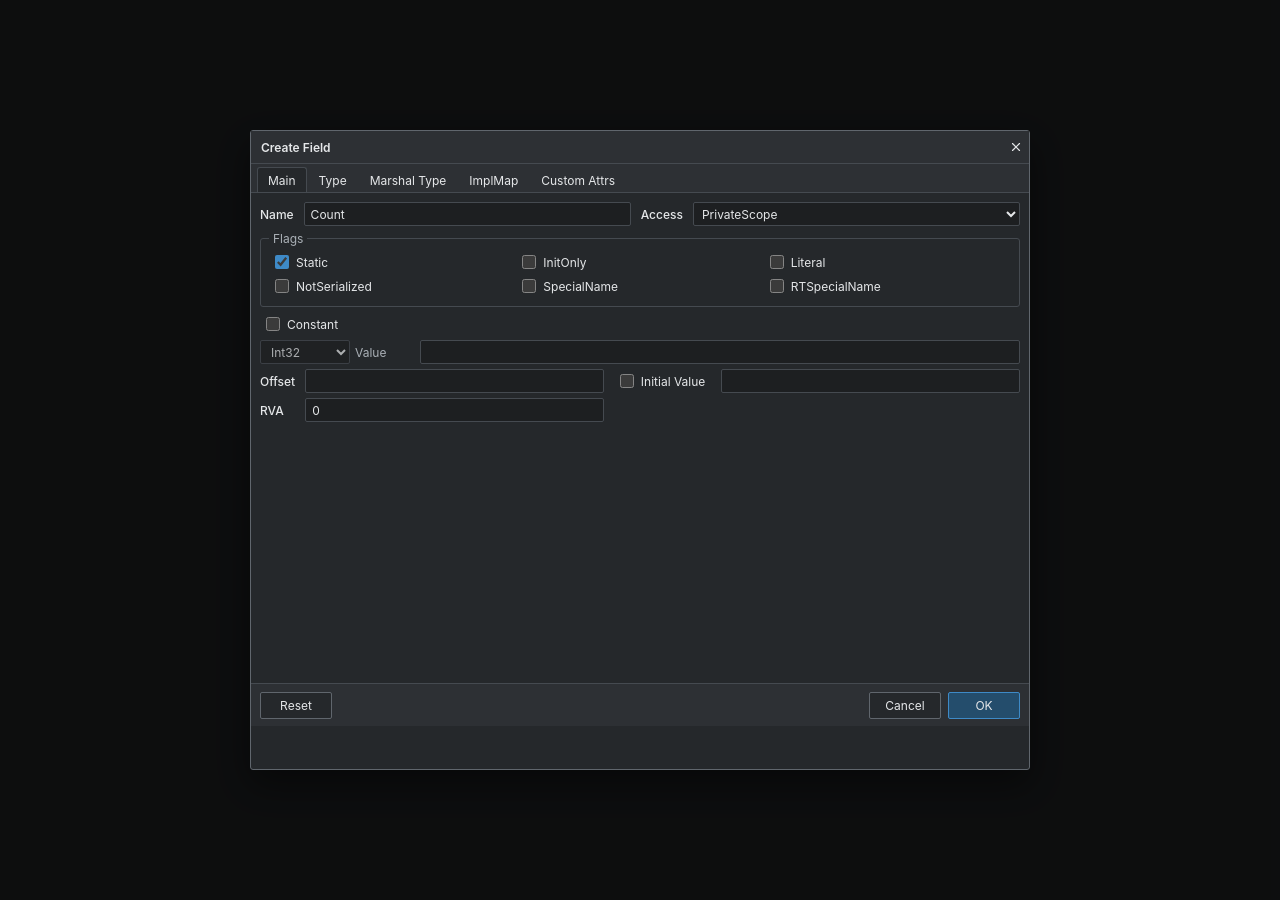
Test: FieldOptionsDialog › puts every page back to what the window opened with
Replace the text in the field named "Name" with "Other": (467, 214) [304,202,631,226]
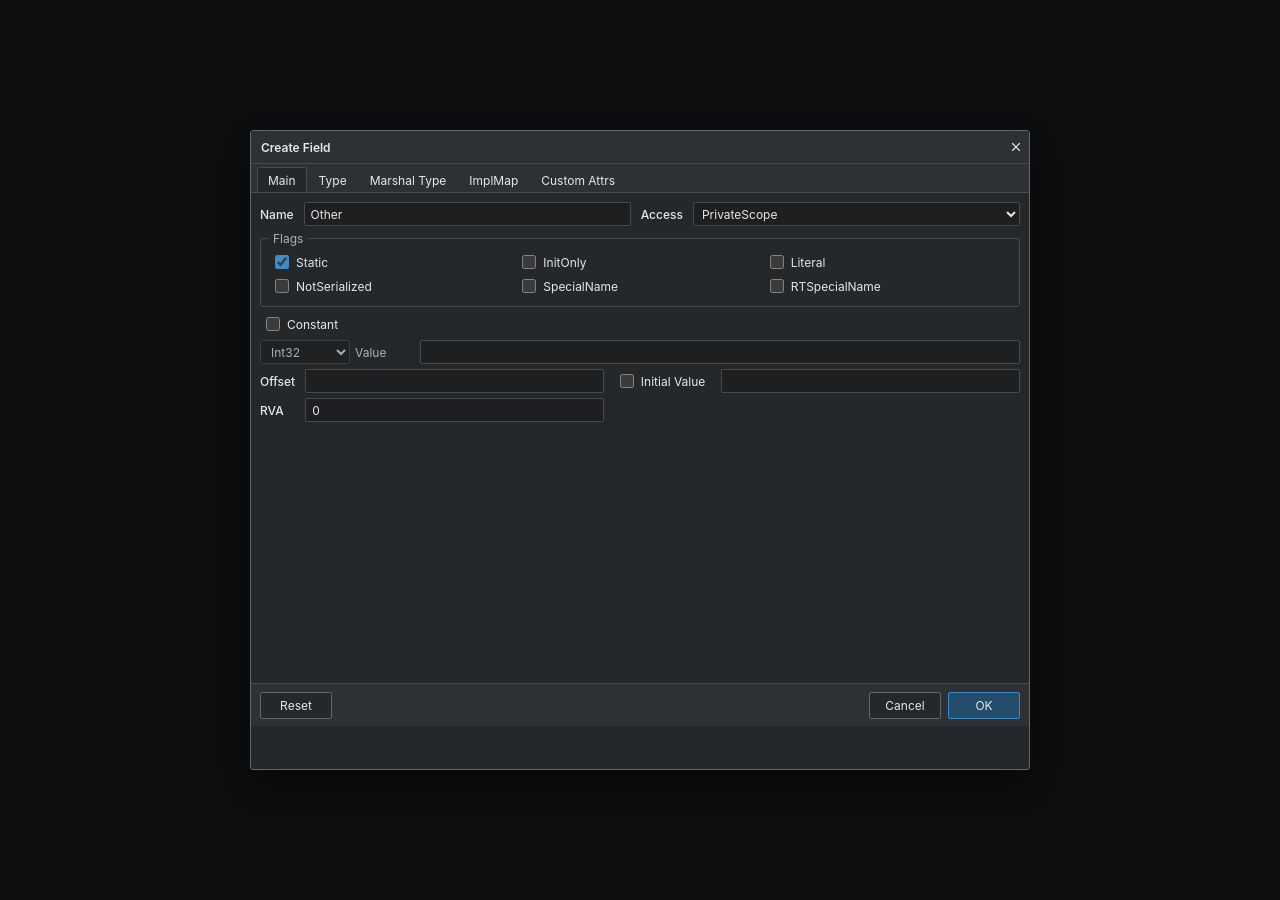
Click the checkbox labelled "Static": click(282, 262) [275,255,289,269]
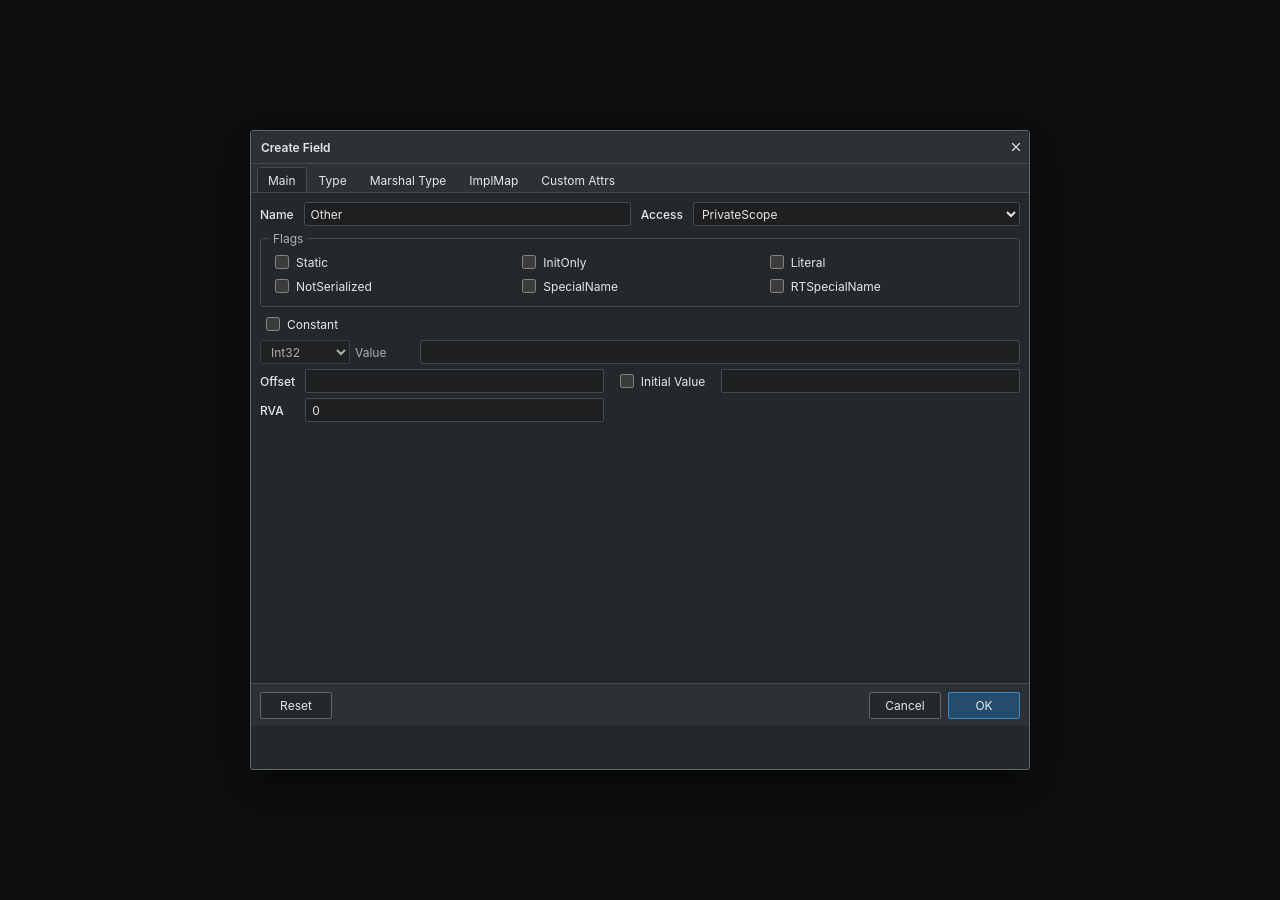
Click the tab "ImplMap": click(494, 180) [458,167,529,192]
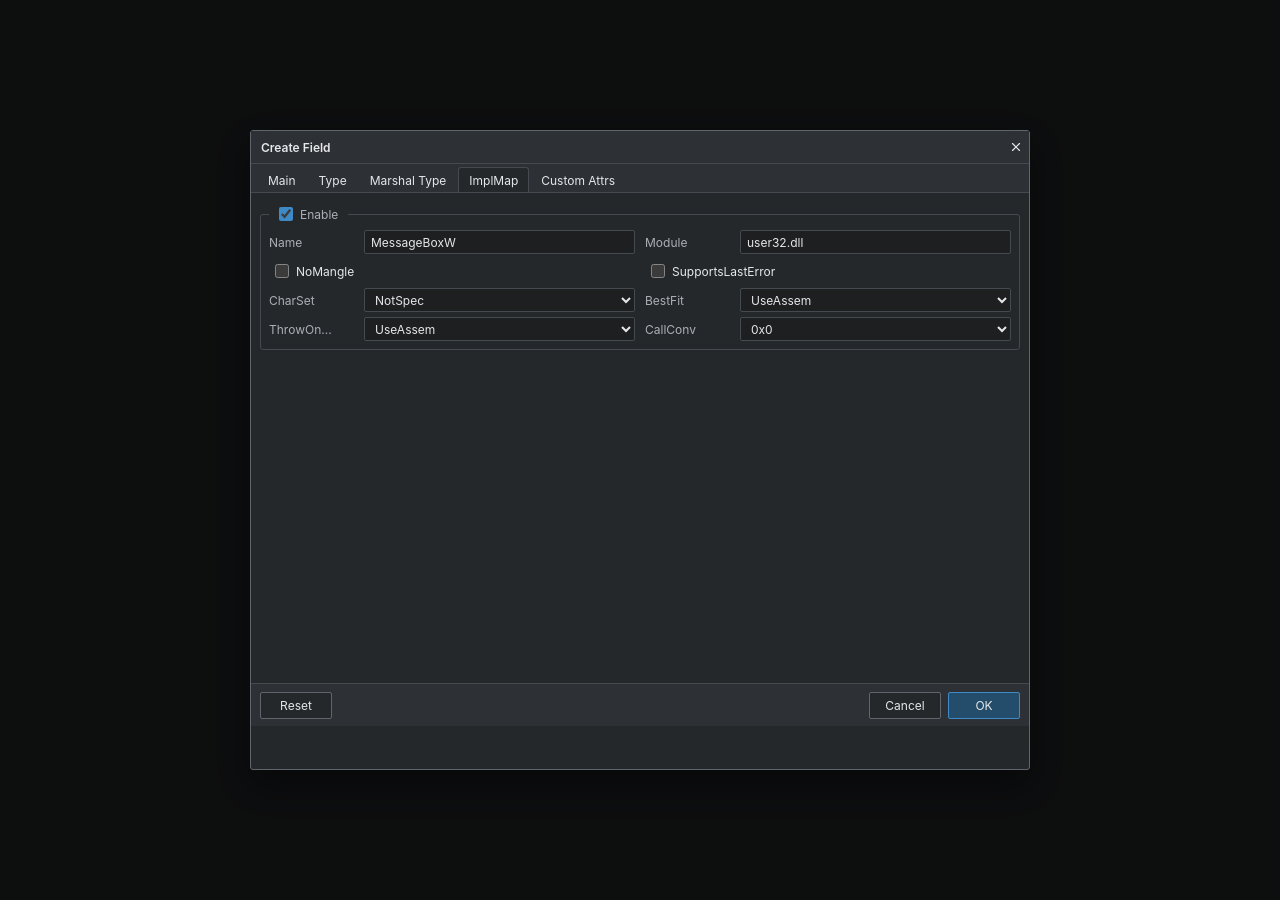
Click the checkbox labelled "Enable": click(286, 214) [279,207,293,221]
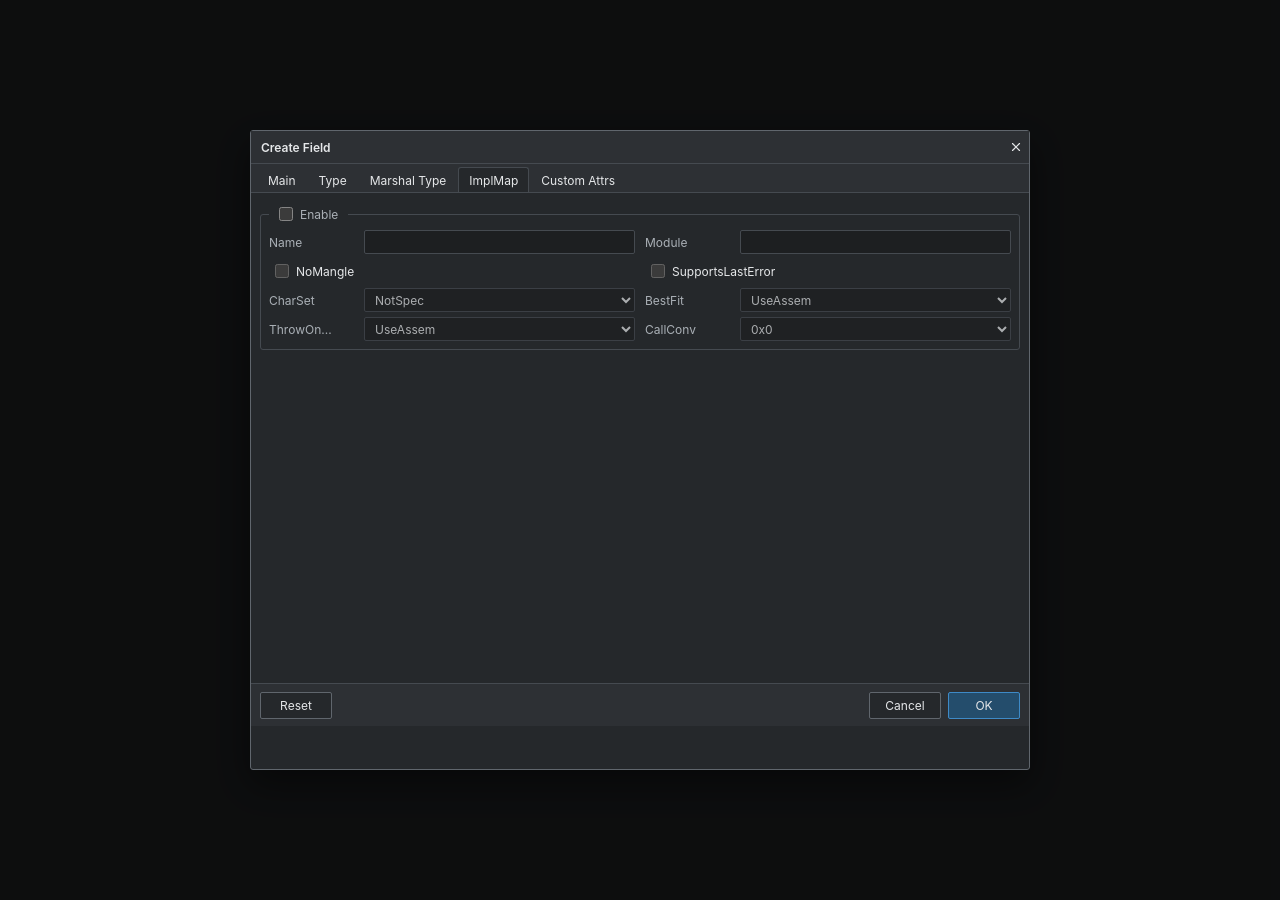
Click the button "Reset": click(296, 705) [260,692,332,718]
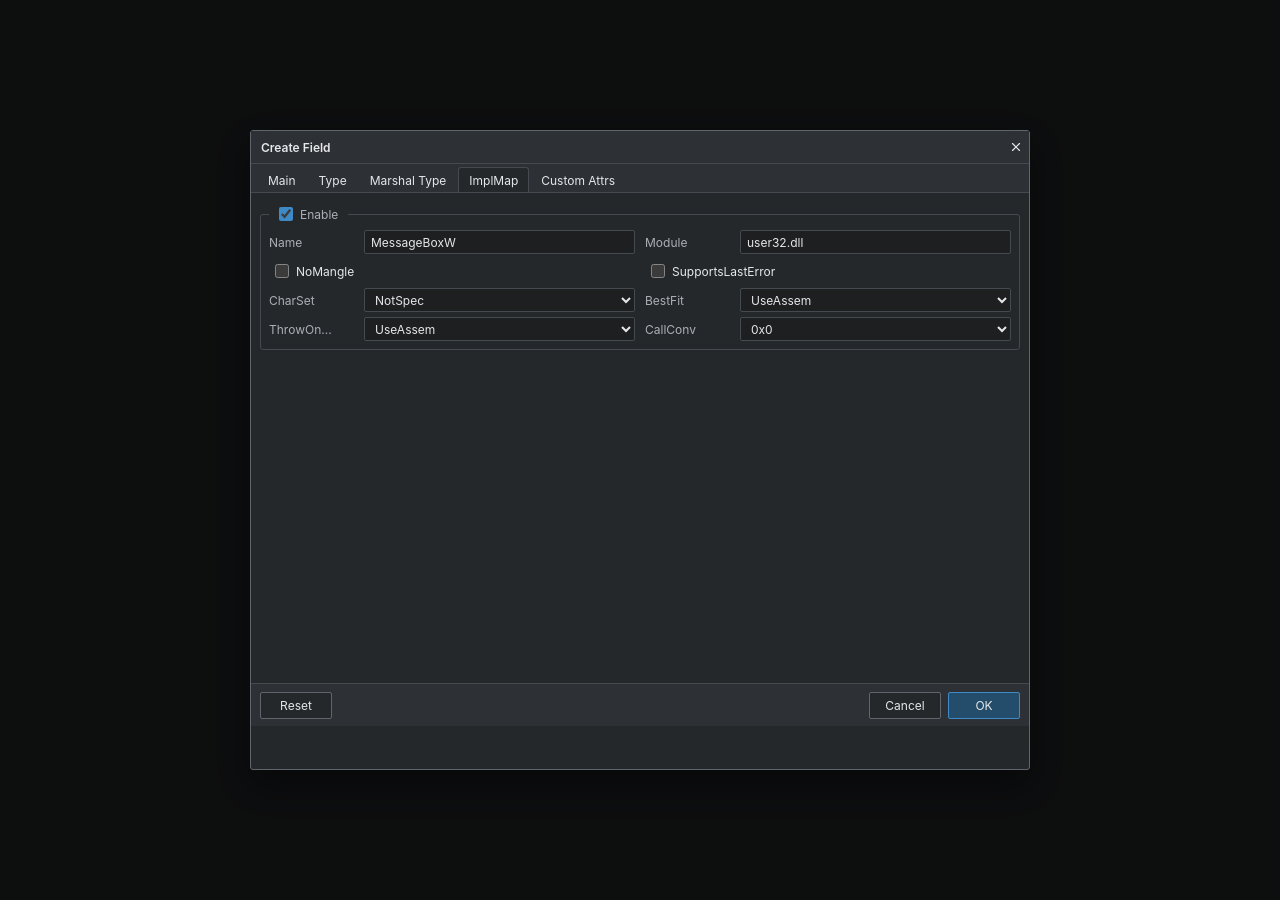
Check: the checkbox labelled "Enable" is checked, box [279,207,293,221]
Check: the field named "Name" holds "MessageBoxW", box [364,230,635,254]
Click the tab "Main": click(282, 180) [257,167,307,192]
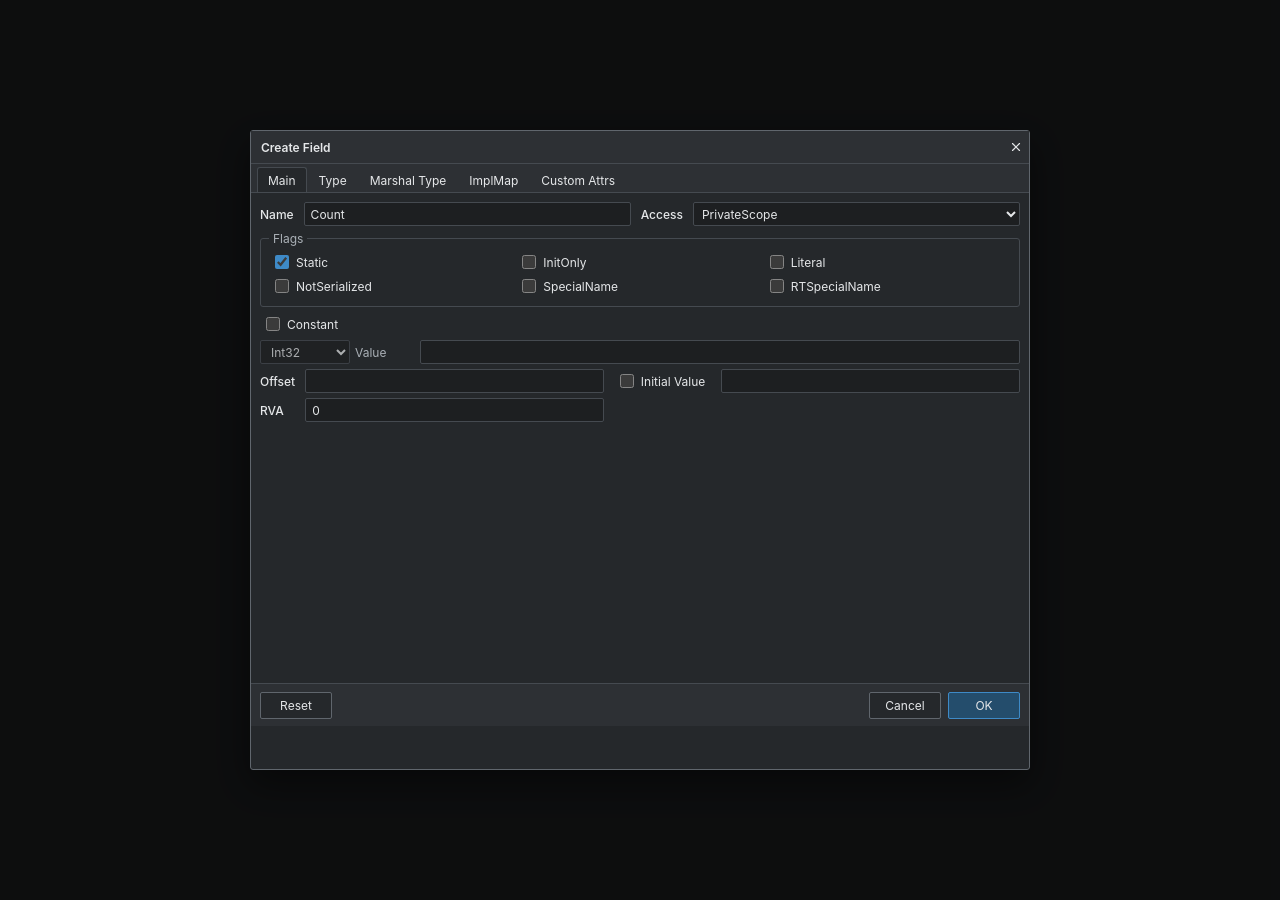
Check: the checkbox labelled "Static" is checked, box [275,255,289,269]
Check: the field named "Name" holds "Count", box [304,202,631,226]
